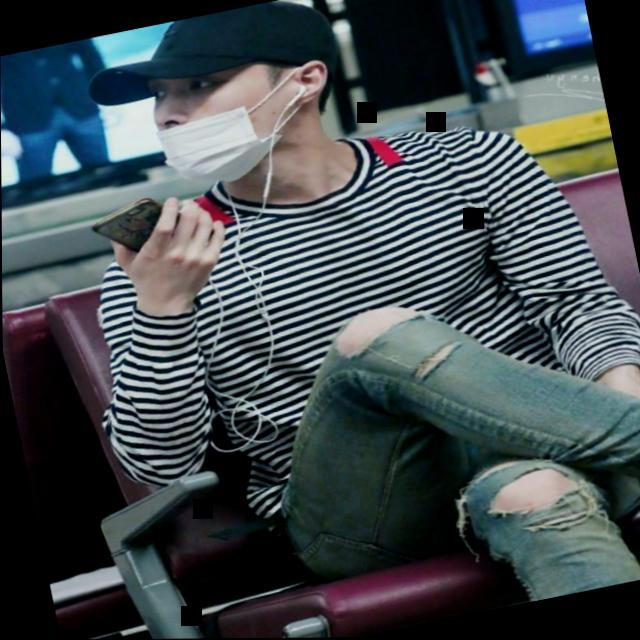Mask: (115, 0, 365, 209)
